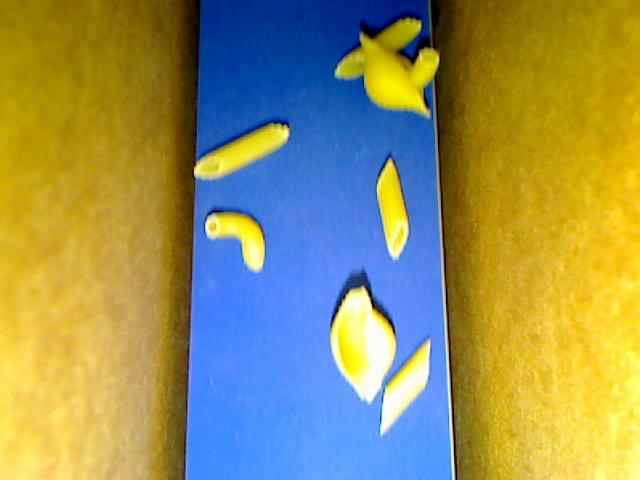elbow: (205, 210, 264, 274), (407, 48, 439, 88)
penne: (193, 124, 291, 179), (377, 338, 431, 437), (334, 19, 421, 79), (376, 159, 408, 256)
shell: (331, 286, 397, 404), (358, 32, 430, 118)
